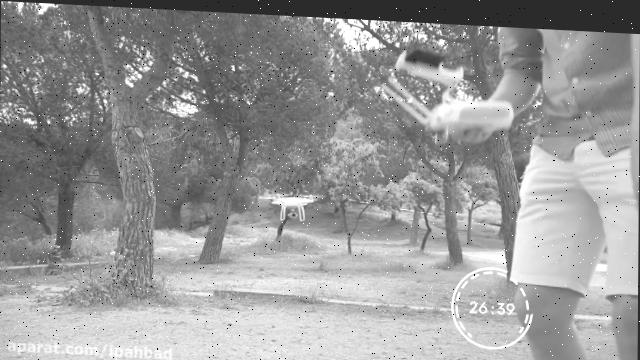drone: (261, 185, 325, 223)
